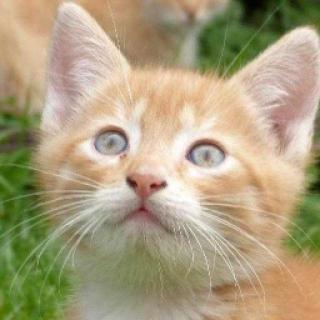cat: (37, 5, 320, 288)
nose: (120, 162, 178, 208)
